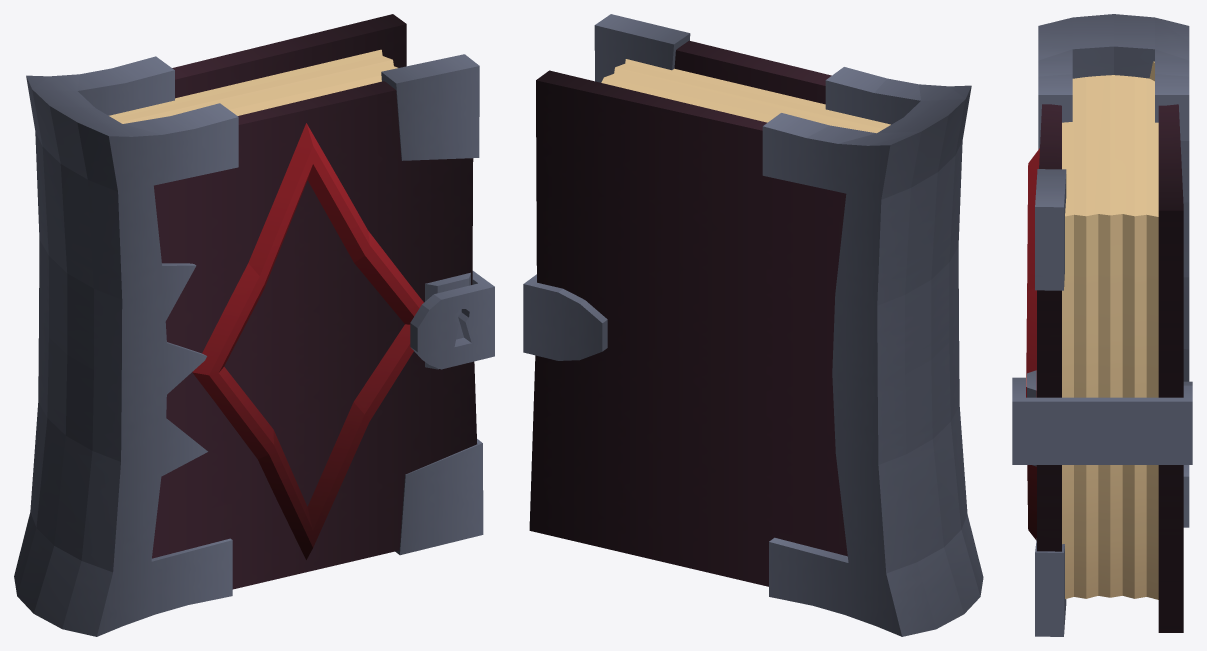
Rendered from Spell_book_1.fbx.
3 renders of one model, left to right at view 1: azimuth 30°, elevation 25°; view 2: azimuth 150°, elevation 25°; view 3: azimuth 270°, elevation 25°, orthographic. The views are drawn at different scales.
Parts seen in each view (by area): view 1: Spell_book_1; view 2: Spell_book_1; view 3: Spell_book_1.
Part boxes in pixels (bbox=[...]): Spell_book_1: bbox=[14, 14, 494, 636]; Spell_book_1: bbox=[523, 14, 983, 636]; Spell_book_1: bbox=[1012, 14, 1192, 636].
Size of the model in its own units: 46.01 by 54.46 by 19.37.
1 material, 1 textured.
